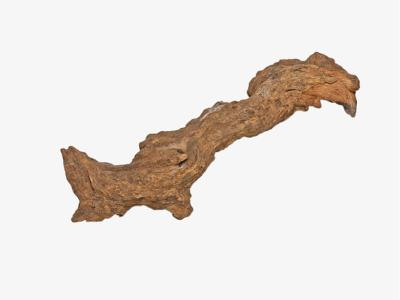Root: (61, 52, 359, 221)
